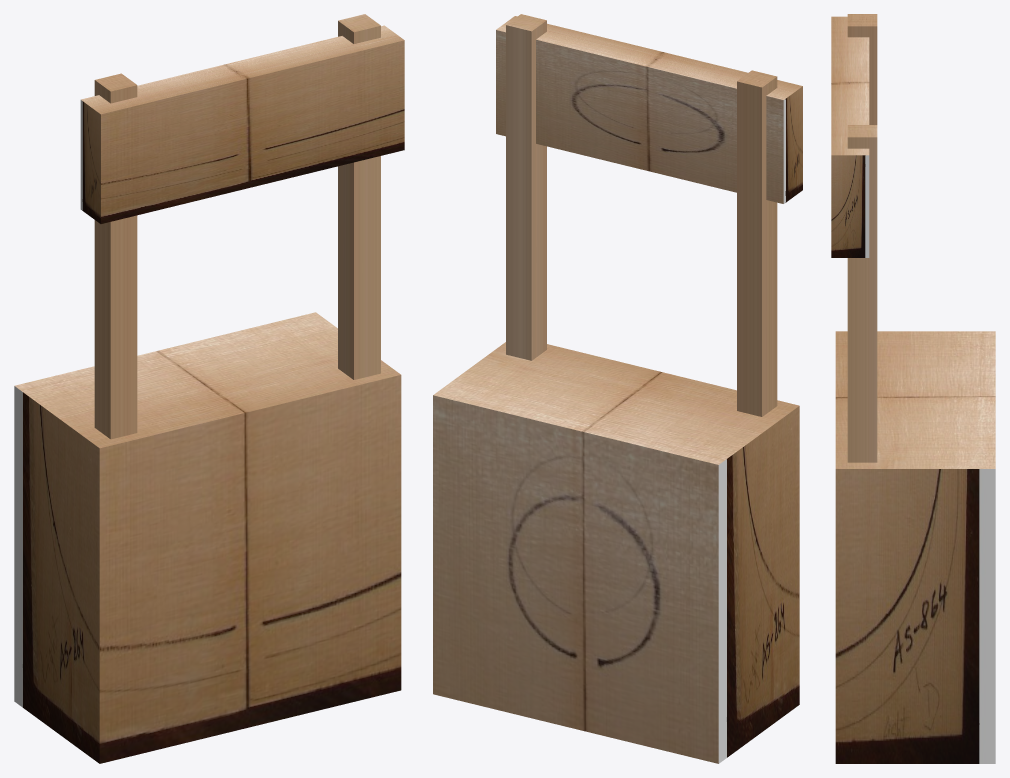
Rendered from wizard_stand.fbx.
3 views of the same model, side by side, from view 1: azimuth 30°, elevation 25°; view 2: azimuth 150°, elevation 25°; view 3: azimuth 270°, elevation 25° (orthographic). The views are drawn at different scales.
Parts seen in each view (by area): view 1: pCube1, pCube2; view 2: pCube1, pCube2; view 3: pCube1, pCube2.
Part boxes in pixels (left/top/right/bottom): pCube1: left=14, top=14, right=401, bottom=763; pCube2: left=80, top=25, right=404, bottom=223; pCube1: left=433, top=14, right=799, bottom=763; pCube2: left=496, top=16, right=802, bottom=203; pCube1: left=835, top=14, right=995, bottom=763; pCube2: left=831, top=16, right=869, bottom=257.
Size of the model in its own units: 2.01 by 4.19 by 1.01.
1 material, 1 textured.
